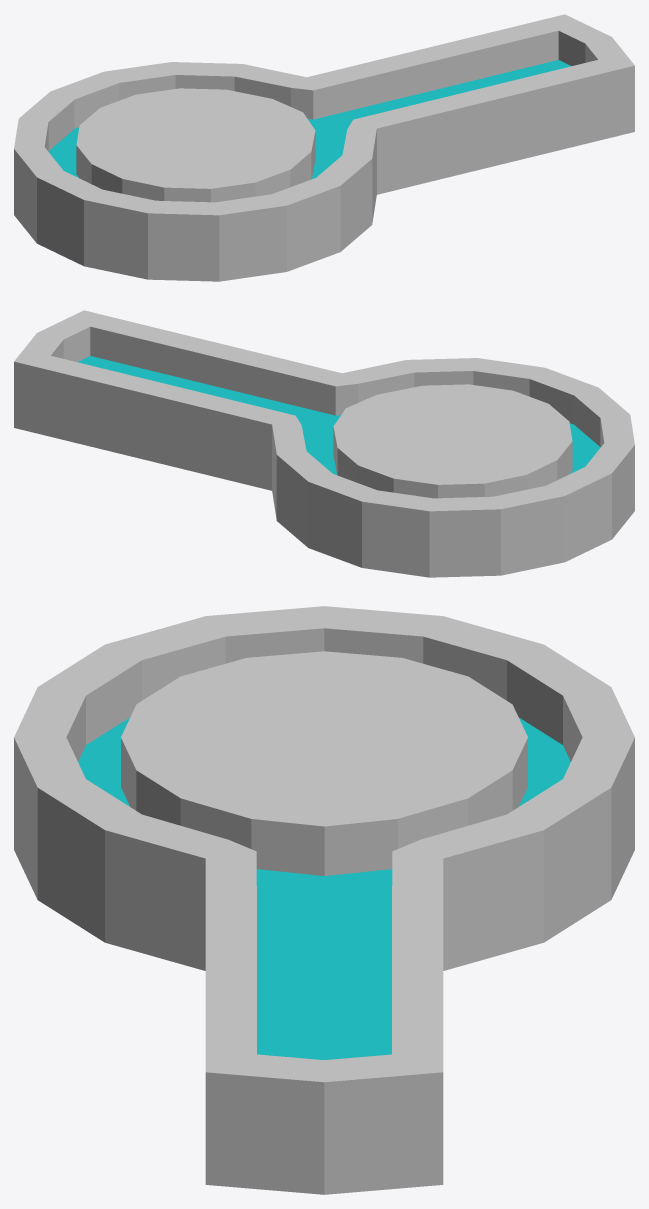
File: punchpad.fbx
3 renders of one model, top to bottom at view 1: azimuth 30°, elevation 25°; view 2: azimuth 150°, elevation 25°; view 3: azimuth 270°, elevation 25°, orthographic. The views are drawn at different scales.
Parts seen in each view (by area): view 1: Cylinder; view 2: Cylinder; view 3: Cylinder.
Boxes of the visible parts, x1=… form: Cylinder: x1=14, y1=14, x2=634, y2=281; Cylinder: x1=14, y1=310, x2=634, y2=577; Cylinder: x1=14, y1=606, x2=634, y2=1194.
Bounding box in the file's own units: 363 × 40 × 200.
